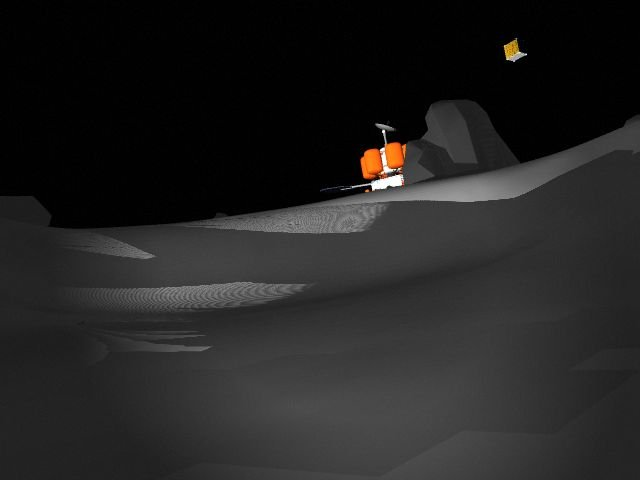cubesat: (497, 34, 535, 69)
